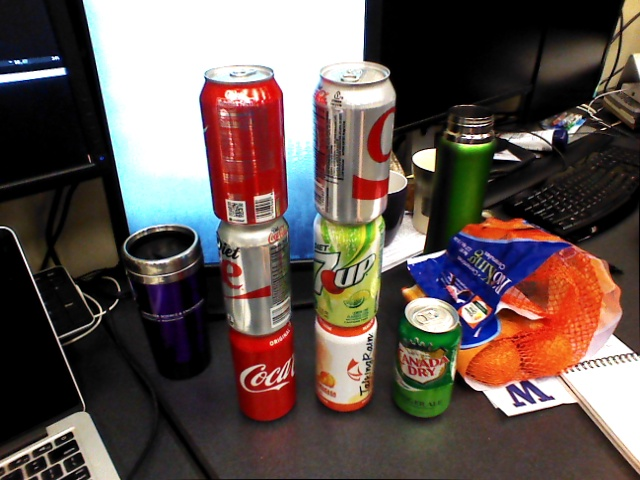can_coke: (202, 64, 289, 224), (230, 328, 297, 421)
can_diet_coke: (313, 61, 395, 222), (217, 222, 292, 331)
can_diet_seven_up: (312, 216, 383, 323)
can_ginger_ale: (395, 299, 462, 418)
can_talking_rain_peach_nectarine: (314, 321, 377, 411)
